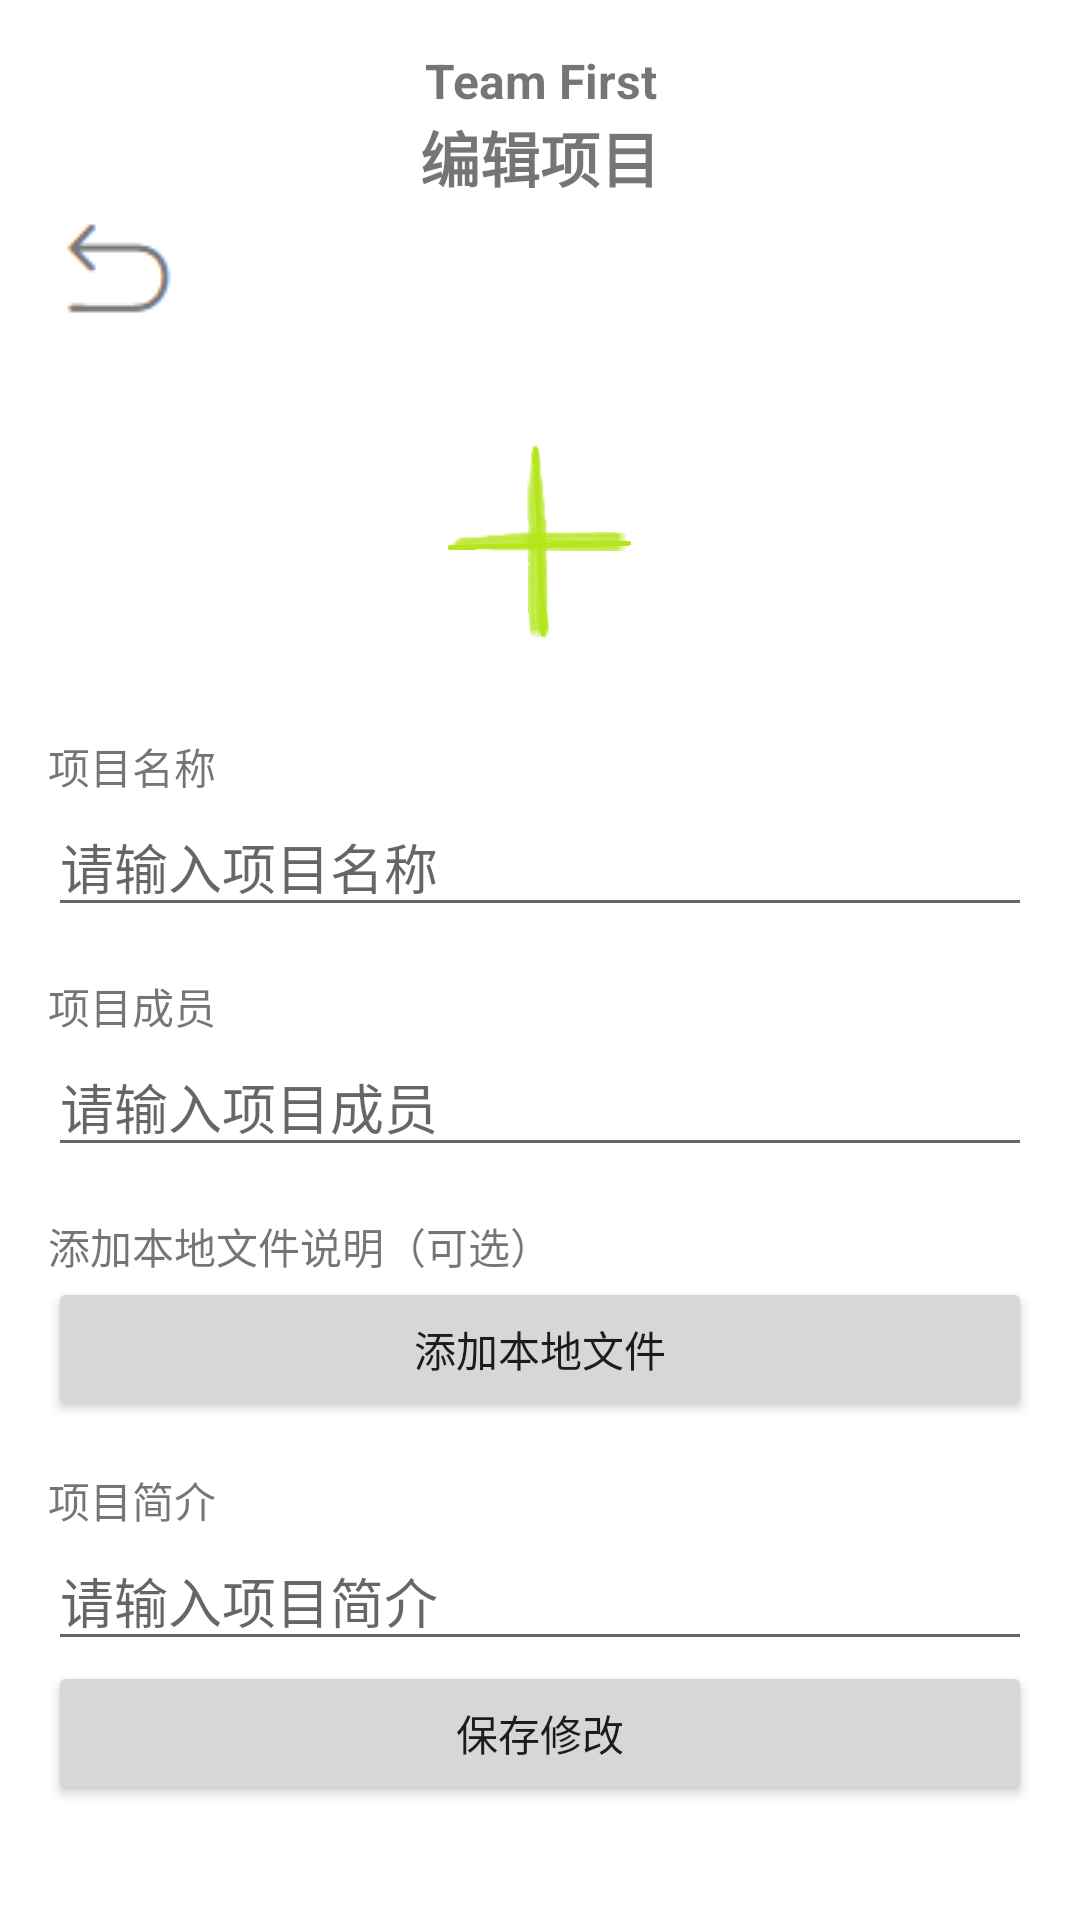

Named icons in this screenshot (1080*1920) and their centers, point (x, y):
add: point (539, 541)
Back: point (119, 268)
